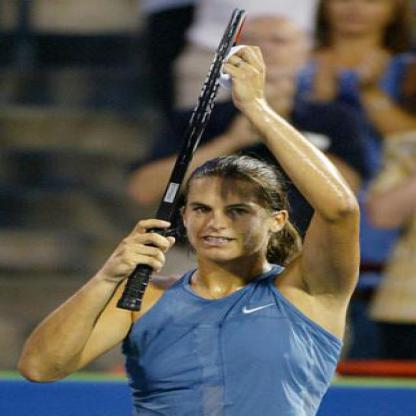face: (182, 159, 277, 262), (234, 15, 306, 82), (331, 1, 393, 37)
